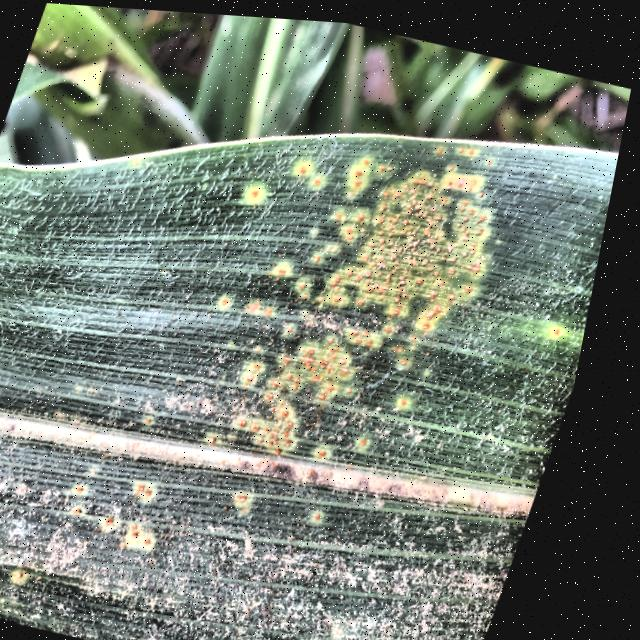common_rust: (0, 18, 637, 640)
